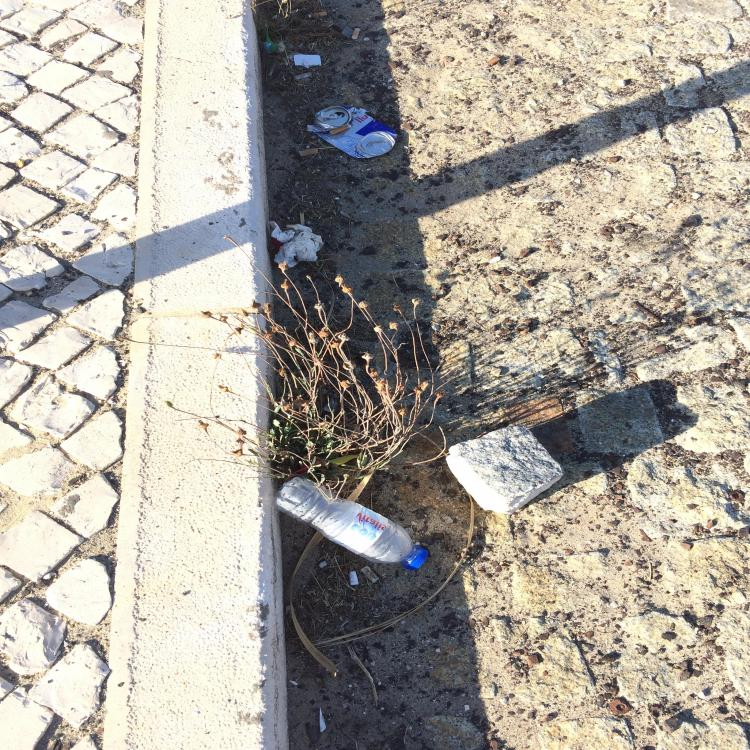Cigarette: (360, 565, 378, 583), (328, 124, 352, 135), (294, 71, 314, 81), (298, 148, 318, 156), (309, 11, 326, 18), (350, 571, 358, 585), (352, 27, 361, 39)
Clear plastic bottle: (274, 477, 428, 571)
Drink can: (313, 106, 397, 159)
Plastic bottle cap: (406, 548, 428, 570)
Pop tab: (321, 112, 339, 119)
Unlabeled litter: (294, 55, 321, 66)
